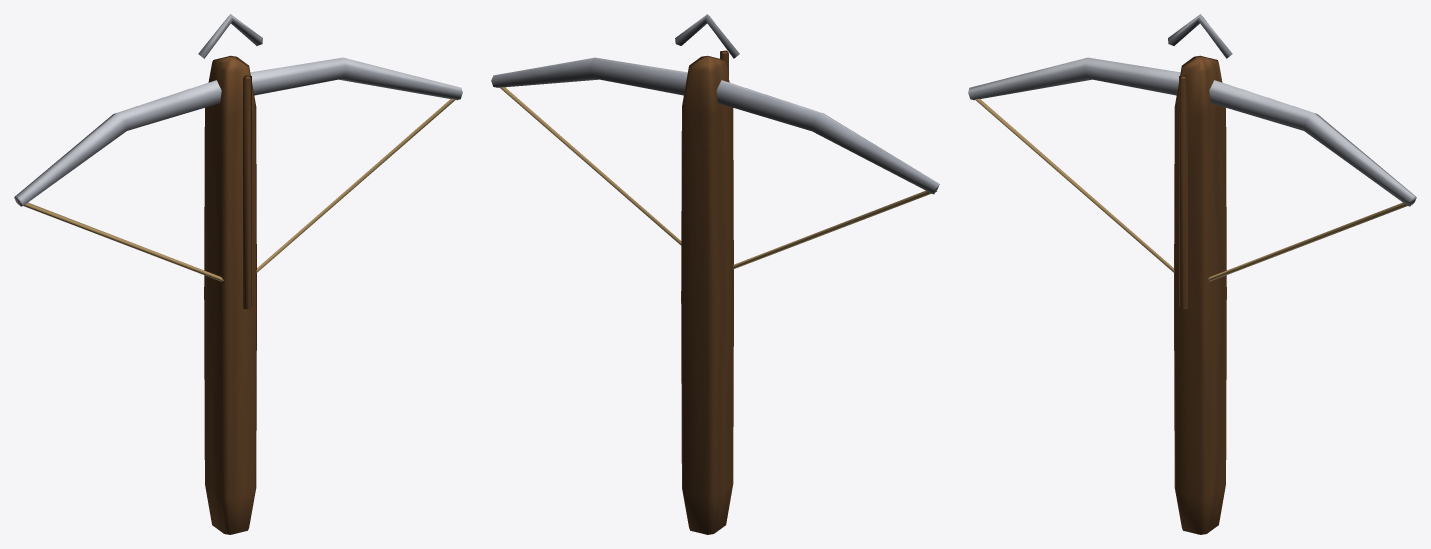
The model's file is arbalete.glb.
The picture shows the model from 3 angles, left to right: view 1: azimuth 30°, elevation 25°; view 2: azimuth 150°, elevation 25°; view 3: azimuth 330°, elevation 25°; orthographic projection.
Parts seen in each view (by area): view 1: arbalete; view 2: arbalete; view 3: arbalete.
Boxes of the visible parts, bbox=[...] form: arbalete: bbox=[14, 14, 462, 534]; arbalete: bbox=[491, 14, 939, 534]; arbalete: bbox=[968, 14, 1416, 534].
Size of the model in its own units: 0.6059 by 0.676 by 0.0751.
Materials: 1 (1 with a texture image).
